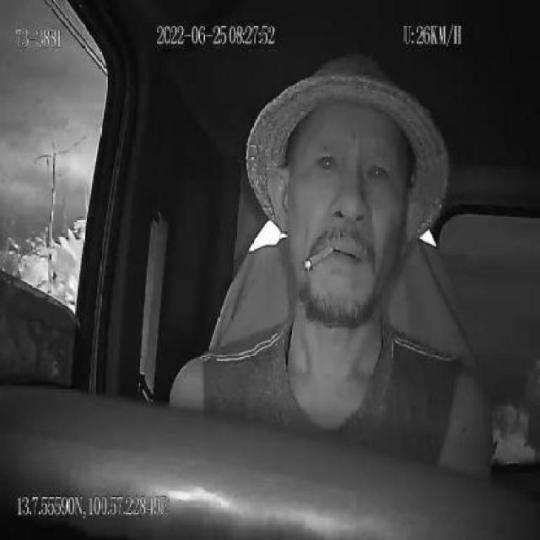smoking: (303, 239, 334, 270)
